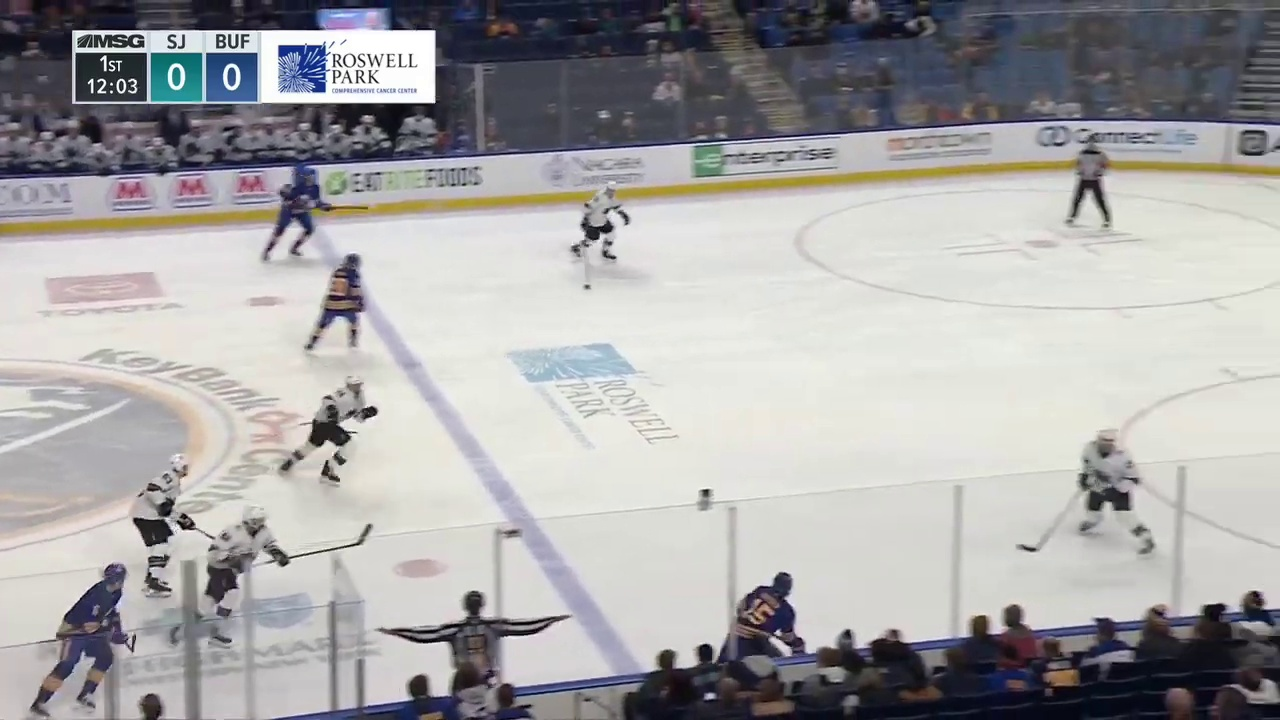hockeyplayer: (169, 504, 290, 650), (30, 562, 129, 719), (279, 374, 377, 487), (1078, 428, 1157, 558), (131, 454, 196, 599), (715, 572, 806, 665), (262, 168, 333, 262), (305, 253, 365, 352), (571, 180, 631, 262)
referee: (374, 590, 573, 683), (1064, 135, 1113, 228)
